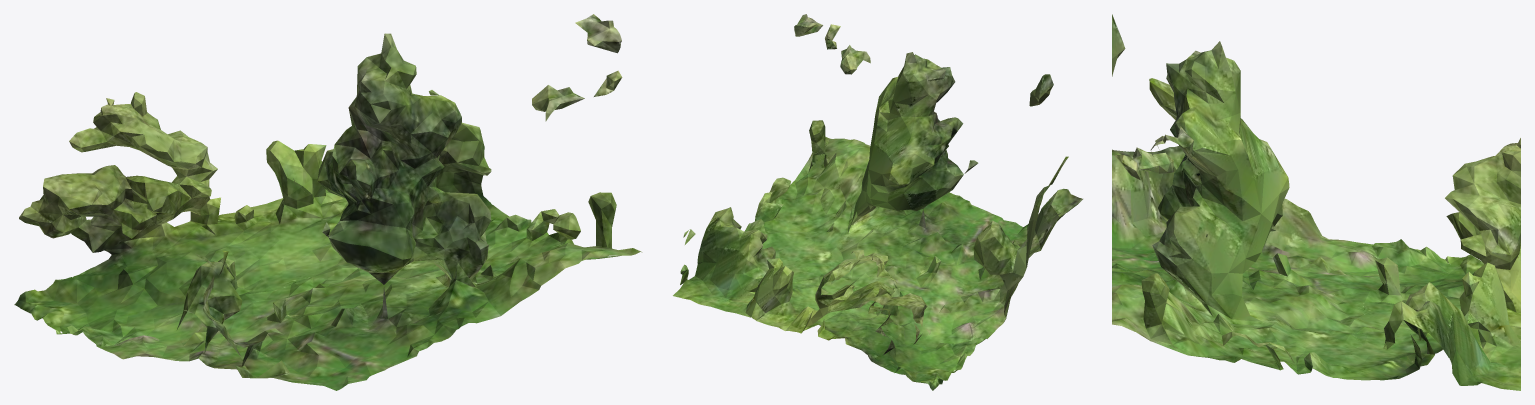
The picture shows the model from 3 angles, left to right: view 1: azimuth 30°, elevation 25°; view 2: azimuth 150°, elevation 25°; view 3: azimuth 270°, elevation 25°; orthographic projection. The views are drawn at different scales.
Size of the model in its own units: 26.11 by 21.65 by 26.11.
Materials: 5 (5 with a texture image).
